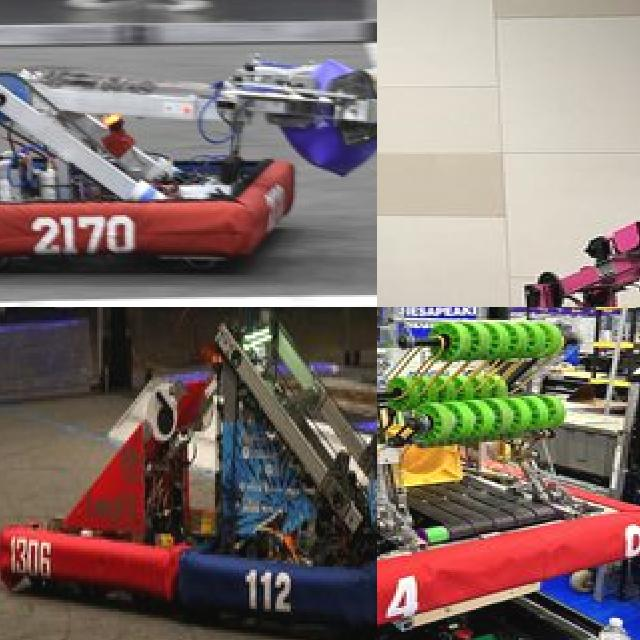FRC-Robots: (0, 0, 377, 304), (377, 307, 640, 615), (394, 0, 640, 307), (19, 320, 194, 640), (213, 340, 377, 640)
